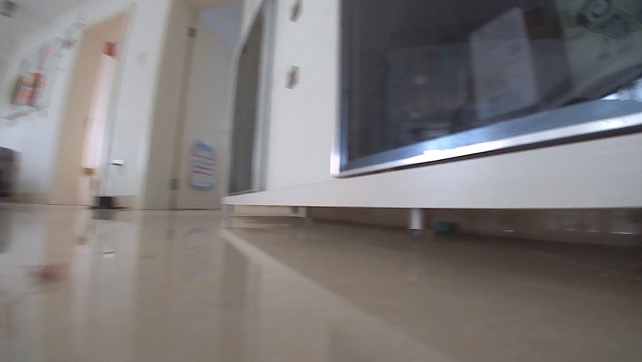door_anno: (142, 0, 239, 211)
